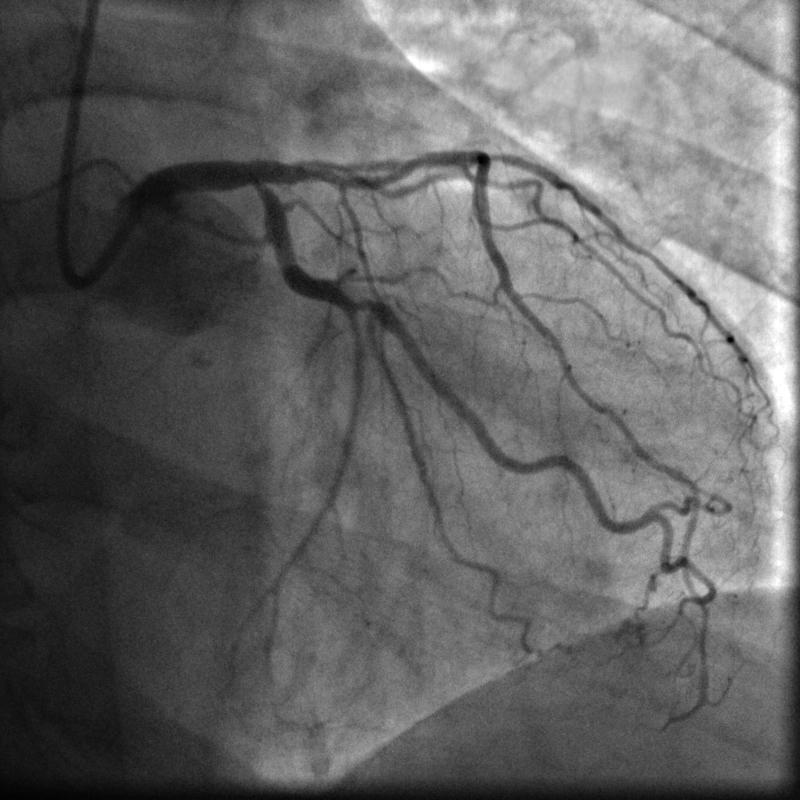Stenosis: (345, 292, 379, 311)
